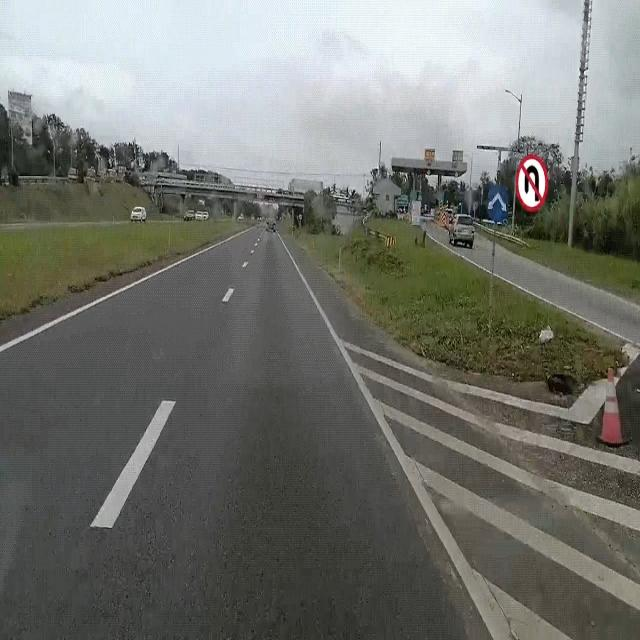Demi-Tour-Interdit: (516, 149, 551, 216)
